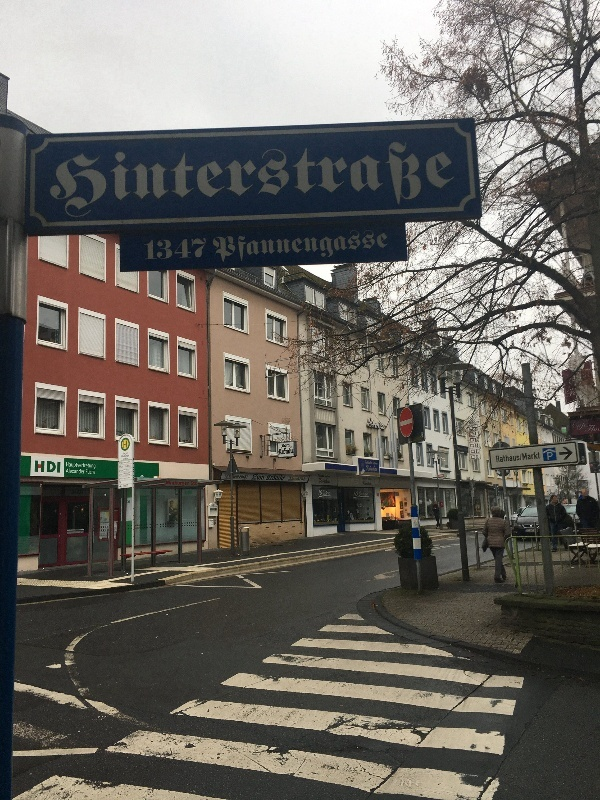text: (65, 130, 80, 222), (81, 130, 96, 222), (97, 130, 112, 222), (113, 130, 128, 222), (129, 130, 144, 222), (145, 130, 160, 222), (161, 130, 176, 222), (177, 130, 192, 222), (193, 130, 208, 222), (209, 130, 224, 222), (225, 130, 240, 222), (241, 130, 256, 222), (257, 130, 272, 222), (273, 130, 288, 222), (289, 130, 304, 222), (305, 130, 320, 222), (321, 130, 336, 222), (337, 130, 352, 222), (353, 130, 368, 222), (369, 130, 384, 222), (385, 130, 400, 222), (401, 130, 416, 222), (417, 130, 432, 222), (433, 130, 448, 222), (52, 130, 64, 222), (449, 130, 456, 222), (225, 225, 240, 264), (241, 225, 256, 264), (257, 225, 272, 264), (273, 225, 288, 264), (289, 225, 304, 264), (305, 225, 320, 264), (321, 225, 336, 264), (337, 225, 352, 264), (353, 225, 368, 264), (369, 225, 384, 264), (193, 234, 209, 266), (145, 234, 160, 266), (161, 234, 176, 266), (177, 234, 192, 266), (213, 225, 224, 264), (577, 420, 592, 435), (474, 426, 480, 459), (385, 225, 390, 264), (369, 417, 384, 430), (497, 451, 512, 463), (513, 451, 528, 463), (35, 461, 48, 474), (49, 461, 61, 474), (529, 451, 541, 463), (81, 462, 96, 470), (547, 452, 560, 461), (593, 420, 600, 435), (67, 462, 80, 470), (273, 475, 286, 482), (67, 468, 80, 474), (355, 491, 368, 497), (324, 490, 336, 496), (321, 478, 330, 485), (279, 448, 288, 455), (257, 474, 266, 481), (177, 481, 189, 486), (86, 469, 96, 475), (469, 420, 480, 425), (369, 466, 378, 472), (359, 491, 368, 497), (227, 475, 240, 479), (166, 481, 176, 486), (573, 420, 576, 435), (373, 462, 384, 466), (325, 475, 336, 479), (124, 440, 128, 449), (289, 448, 294, 455), (267, 475, 272, 482), (282, 443, 288, 448), (233, 475, 240, 479), (119, 470, 128, 473), (119, 474, 128, 477), (119, 478, 128, 481), (363, 481, 368, 486), (362, 477, 368, 481), (120, 462, 128, 465), (120, 466, 128, 469), (81, 468, 85, 474), (241, 475, 247, 479), (121, 455, 128, 458), (253, 474, 256, 481), (193, 481, 197, 486), (321, 474, 325, 478), (369, 481, 372, 486), (123, 452, 128, 455), (321, 489, 323, 496), (385, 417, 386, 430), (365, 461, 368, 465), (369, 461, 372, 465), (366, 466, 368, 472), (190, 481, 192, 486), (123, 458, 128, 460), (369, 478, 372, 481), (318, 474, 320, 478), (129, 500, 131, 504), (319, 478, 320, 485), (319, 489, 320, 496), (289, 443, 290, 448), (127, 500, 128, 504)
